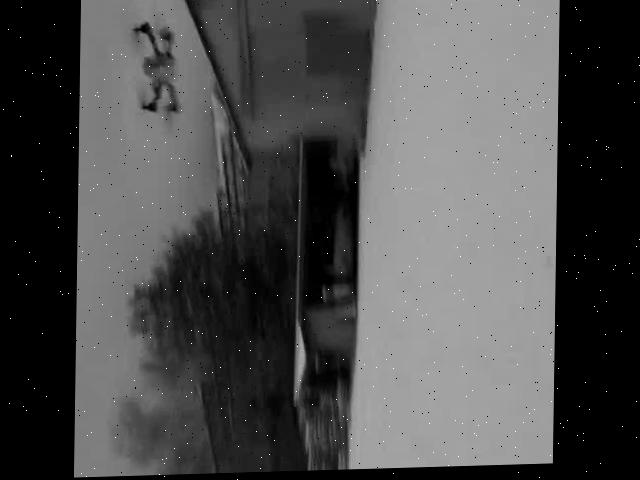drone: (109, 0, 206, 140)
